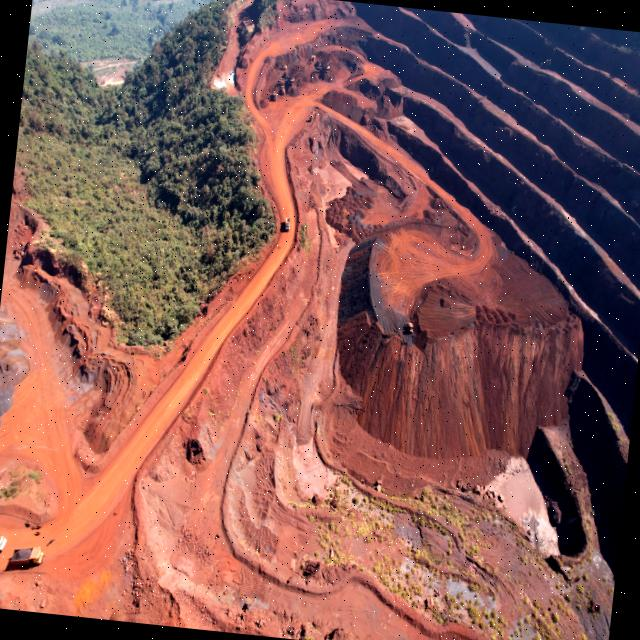Dumper truck: (10, 544, 46, 568), (0, 529, 7, 554), (284, 216, 290, 232), (272, 90, 276, 102)
Excavator: (275, 60, 288, 71), (308, 54, 315, 65)
